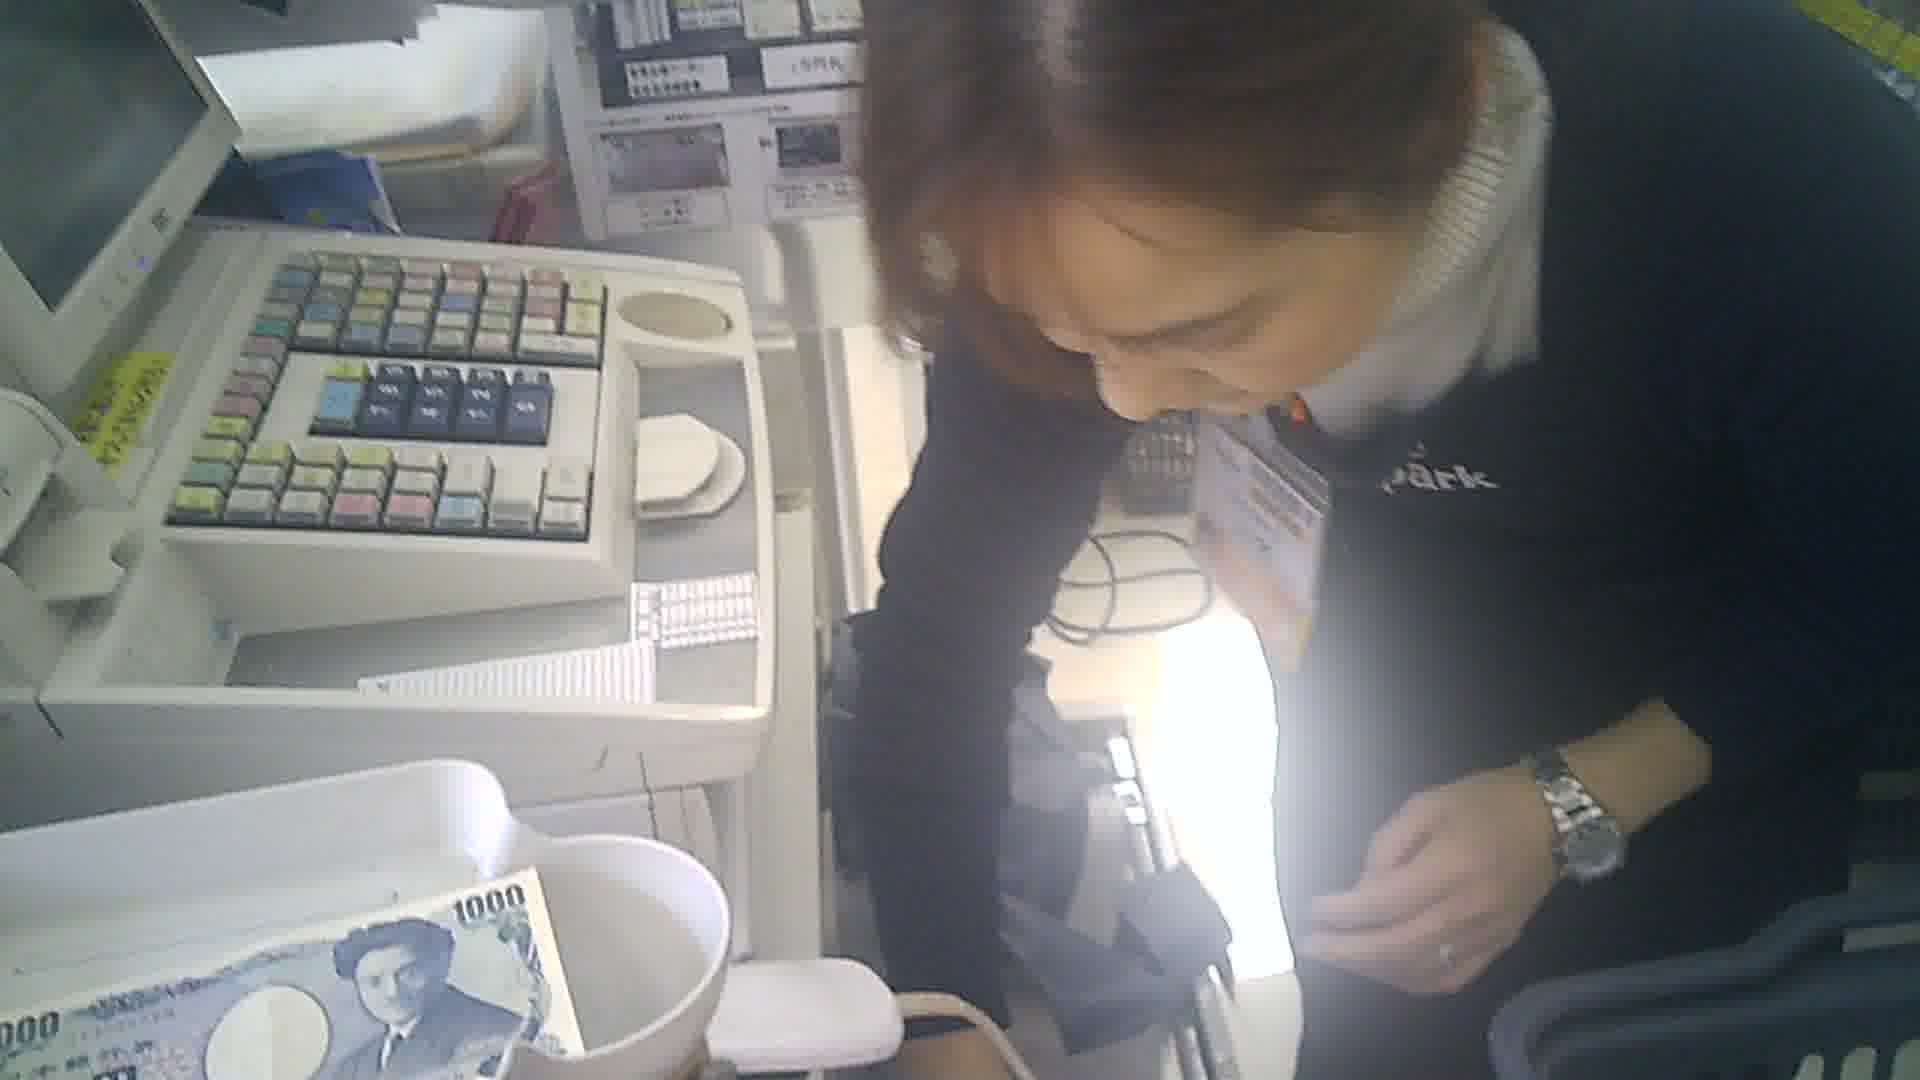1,000 Yen: (3, 882, 572, 1079)
